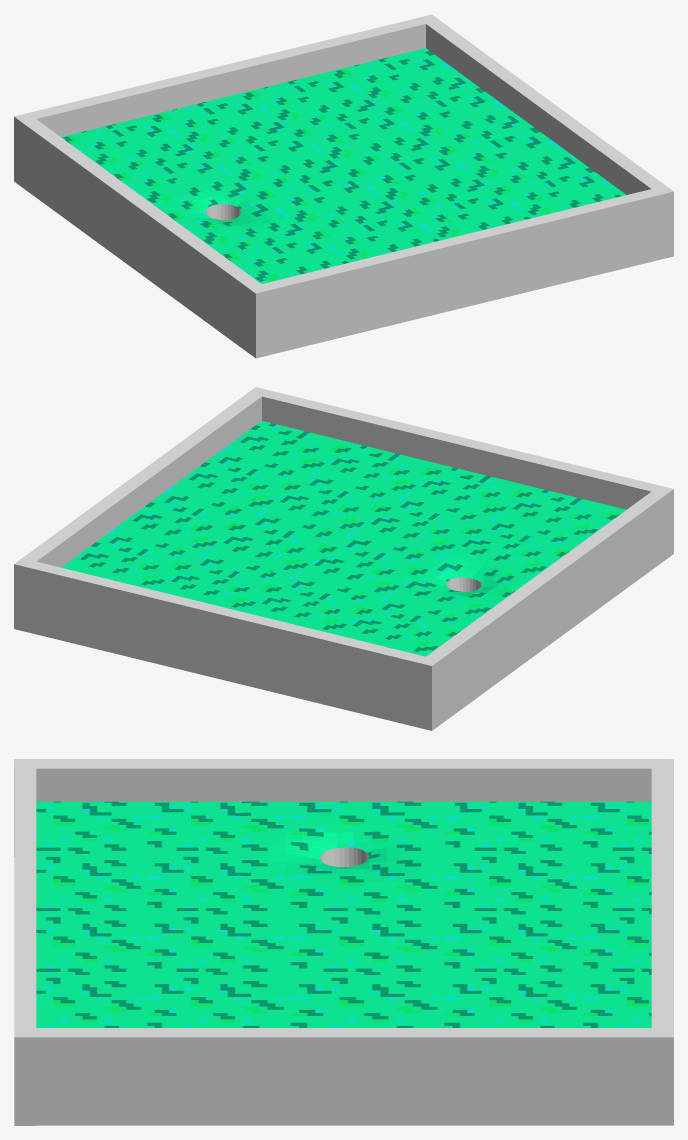
The model's file is NN1fixed.fbx.
The picture shows the model from 3 angles, top to bottom: view 1: azimuth 30°, elevation 25°; view 2: azimuth 150°, elevation 25°; view 3: azimuth 270°, elevation 25°; orthographic projection. The views are drawn at different scales.
Parts seen in each view (by area): view 1: Cube, Cube.001; view 2: Cube, Cube.001; view 3: Cube, Cube.001.
Boxes of the visible parts, x1,y1,x2,y2 form: Cube: [61, 48, 625, 283]; Cube.001: [14, 14, 673, 358]; Cube: [61, 421, 626, 656]; Cube.001: [14, 387, 673, 730]; Cube: [36, 801, 651, 1027]; Cube.001: [14, 759, 673, 1125].
Bounding box in the file's own units: 540 × 80 × 541.
